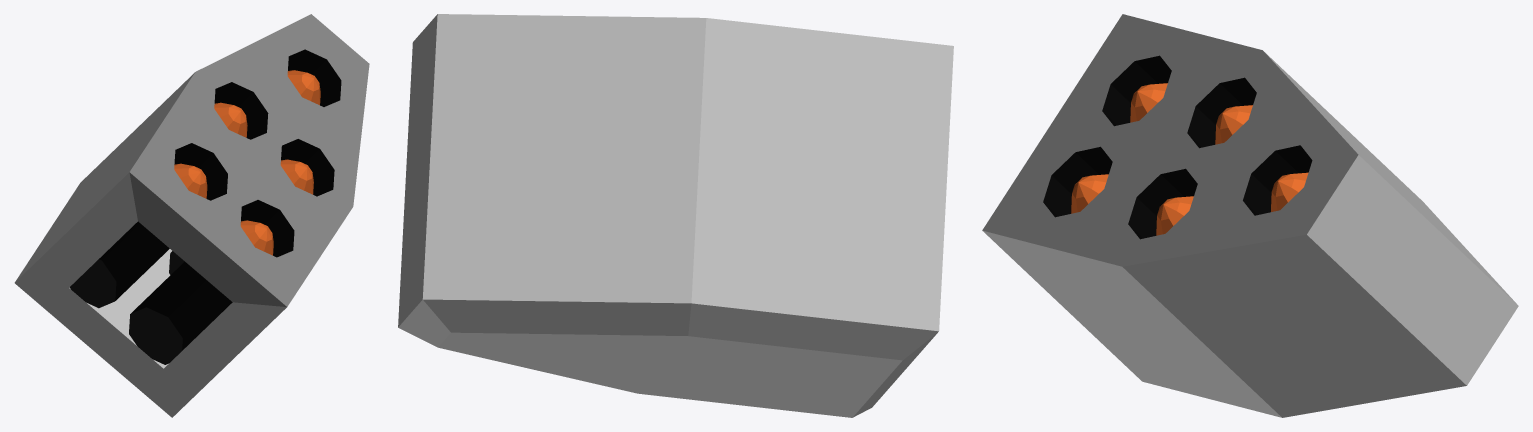
The model's file is MicroMissilePod.fbx.
3 renders of one model, left to right at view 1: azimuth 30°, elevation 25°; view 2: azimuth 150°, elevation 25°; view 3: azimuth 270°, elevation 25°, orthographic. The views are drawn at different scales.
Visible parts, largest first — view 1: MicroMissilePod; view 2: MicroMissilePod; view 3: MicroMissilePod.
Part boxes in pixels (x1,y1,x2,y2): MicroMissilePod: (14,14,369,417); MicroMissilePod: (398,14,953,417); MicroMissilePod: (982,14,1518,417).
Size of the model in its own units: 192 by 192 by 148.
